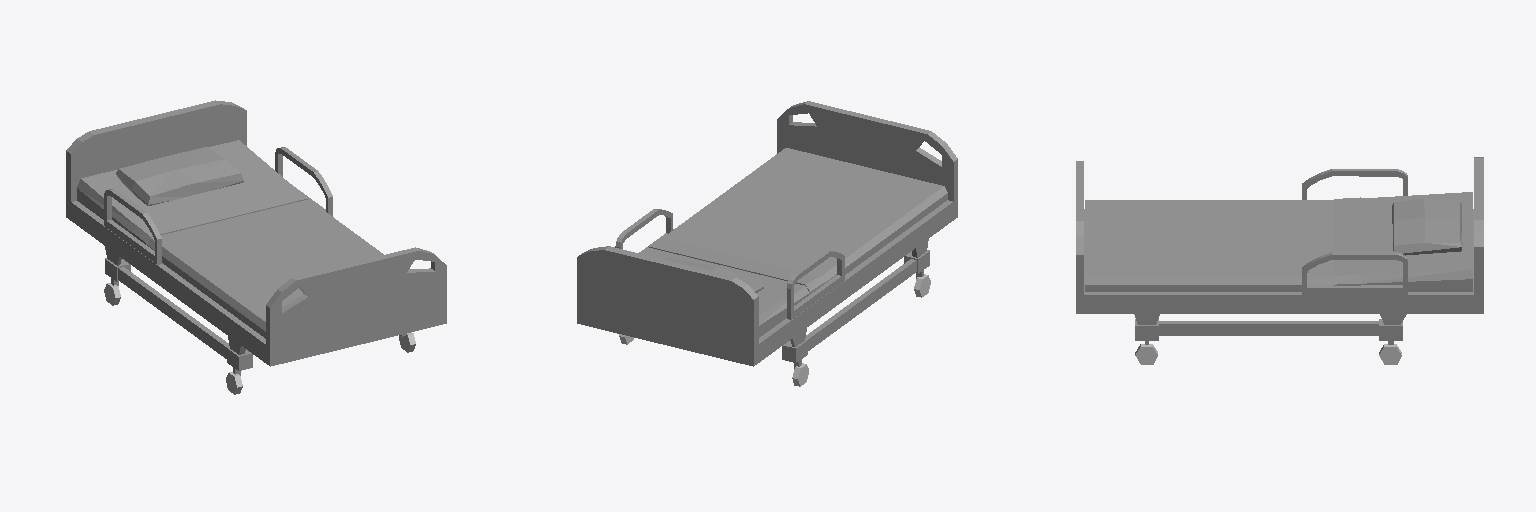
The model's file is mesh_bed_pos.obj.
3 renders of one model, left to right at view 1: azimuth 30°, elevation 25°; view 2: azimuth 150°, elevation 25°; view 3: azimuth 270°, elevation 25°, orthographic.
Visible parts, largest first — view 1: Cube.008_Cube.010, Cube.003, Cube.002; view 2: Cube.008_Cube.010, Cube.003, Cube.002; view 3: Cube.003, Cube.008_Cube.010, Cube.002.
Part boxes in pixels (x1,y1,x2,y2): Cube.008_Cube.010: (66,100,446,375); Cube.003: (77,140,383,338); Cube.002: (116,147,243,205); Cube.008_Cube.010: (577,101,957,368); Cube.003: (639,148,947,337); Cube.002: (664,257,763,292); Cube.003: (1085,192,1472,291); Cube.008_Cube.010: (1076,157,1483,344); Cube.002: (1392,198,1462,255).
Size of the model in its own units: 4.09 by 2.82 by 7.94.